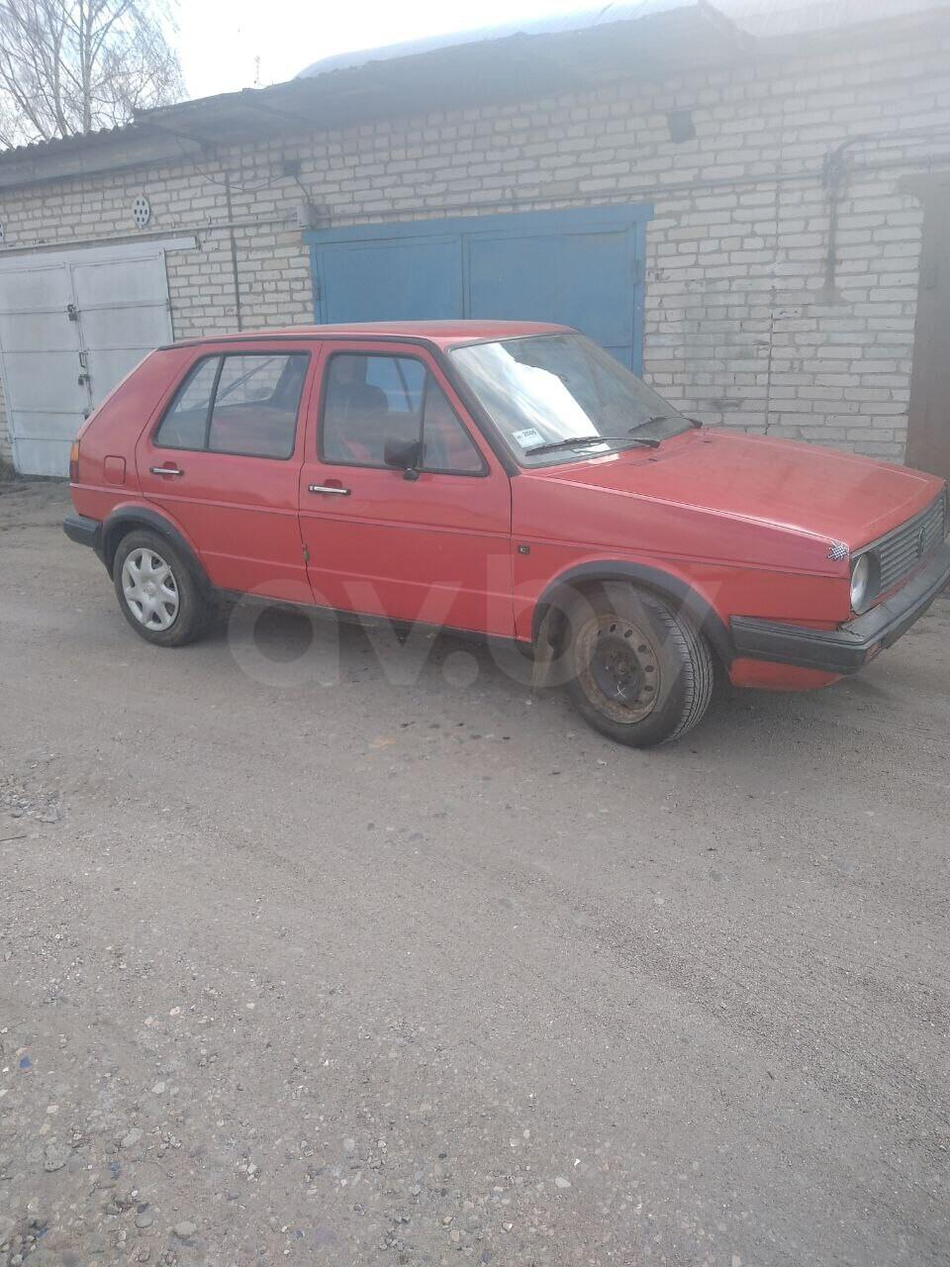Golf_1991-2000: (59, 312, 950, 750)
